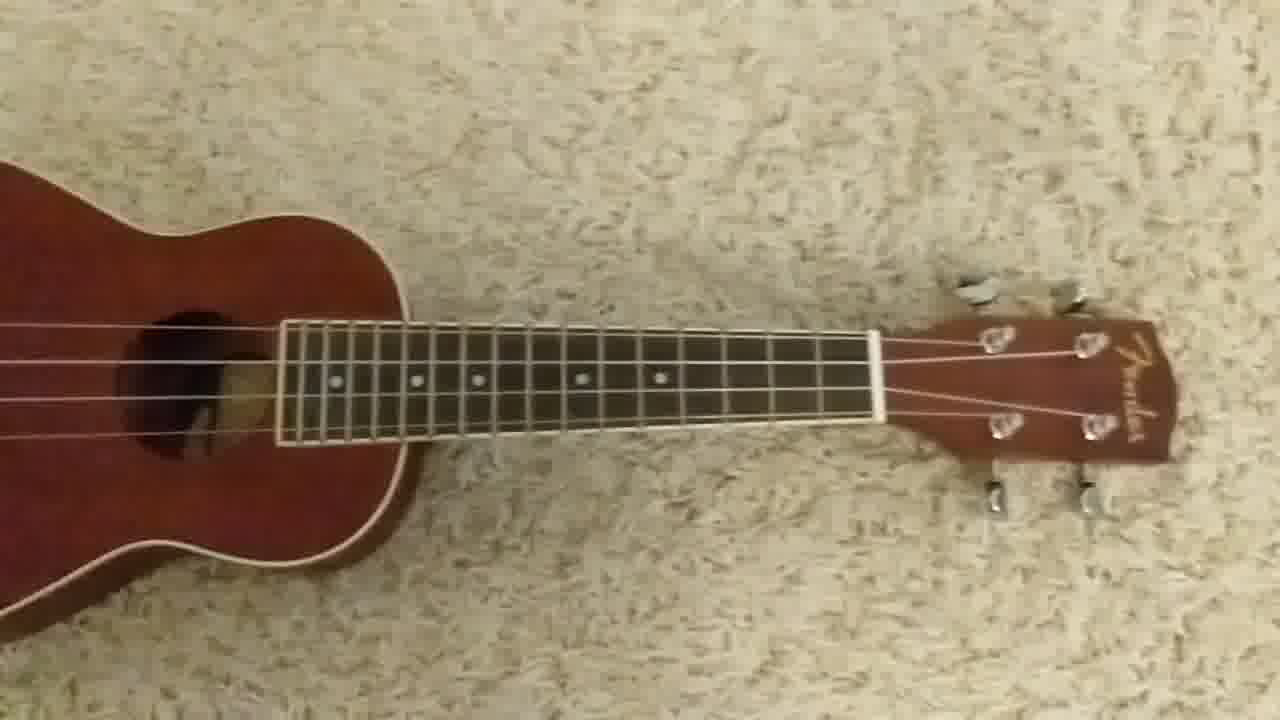Body: (1, 154, 428, 646)
Headstock: (889, 269, 1181, 523)
